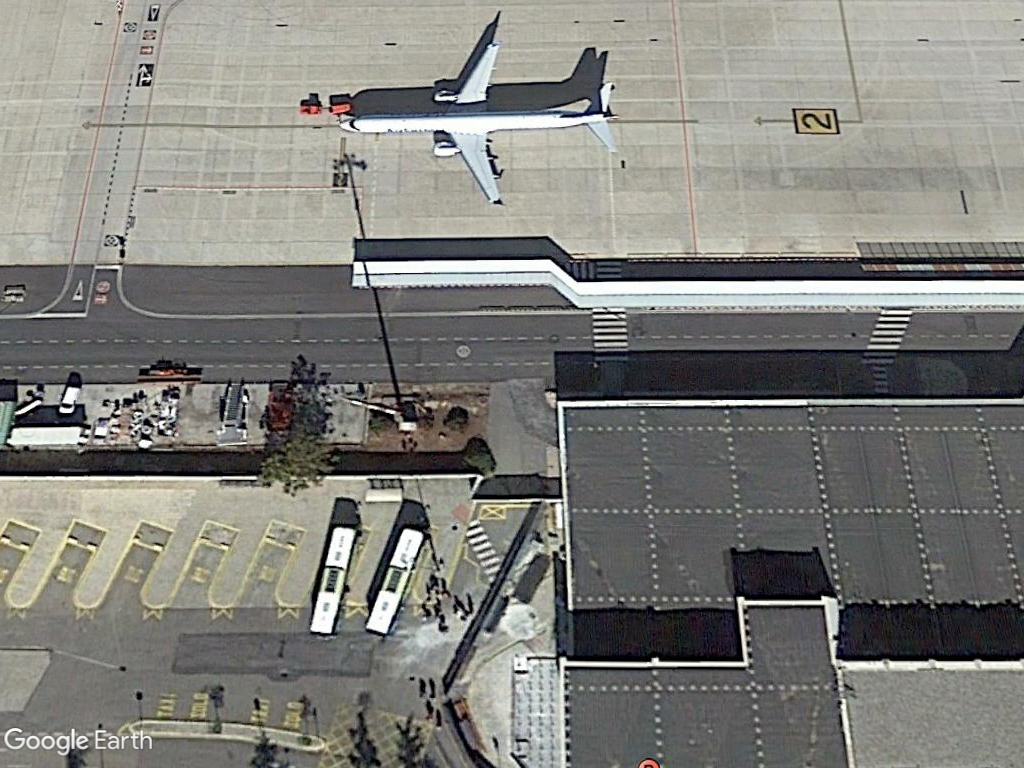airliner: (335, 24, 631, 210)
bus: (299, 515, 363, 644), (365, 517, 427, 642)
stairtruck: (213, 379, 252, 446)
van: (54, 379, 82, 417)
